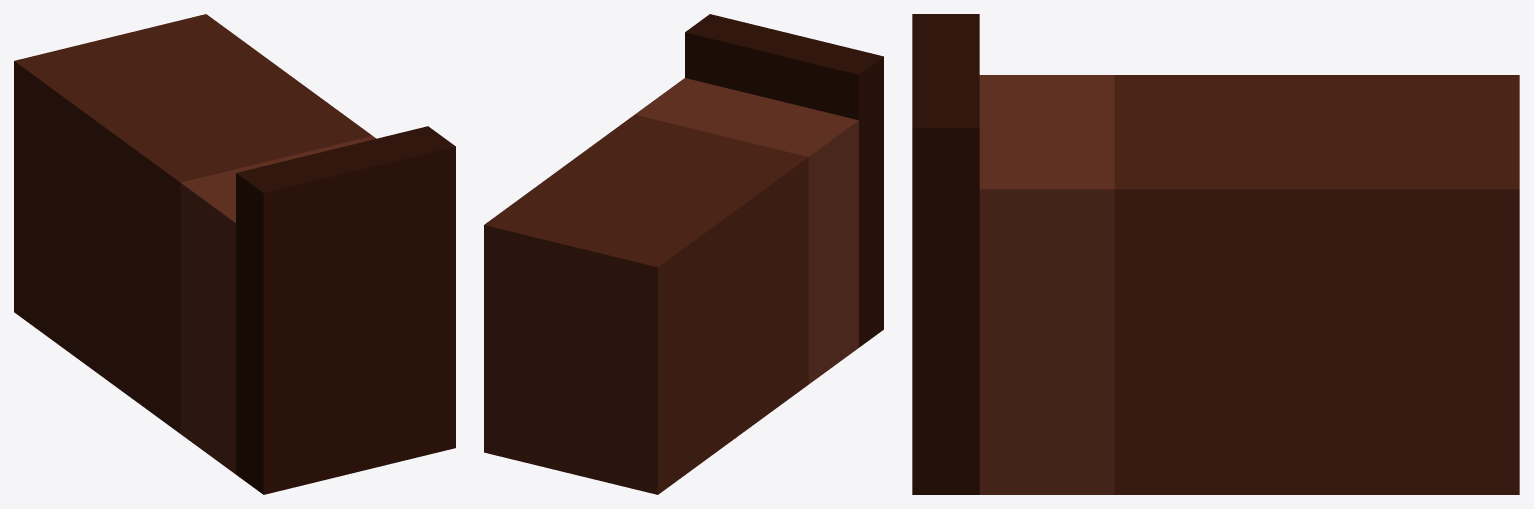
File: right_leg.obj
3 renders of one model, left to right at view 1: azimuth 30°, elevation 25°; view 2: azimuth 150°, elevation 25°; view 3: azimuth 270°, elevation 25°, orthographic. The views are drawn at different scales.
Size of the model in its own units: 0.4 by 0.6 by 0.9.
1 material, 1 textured.
